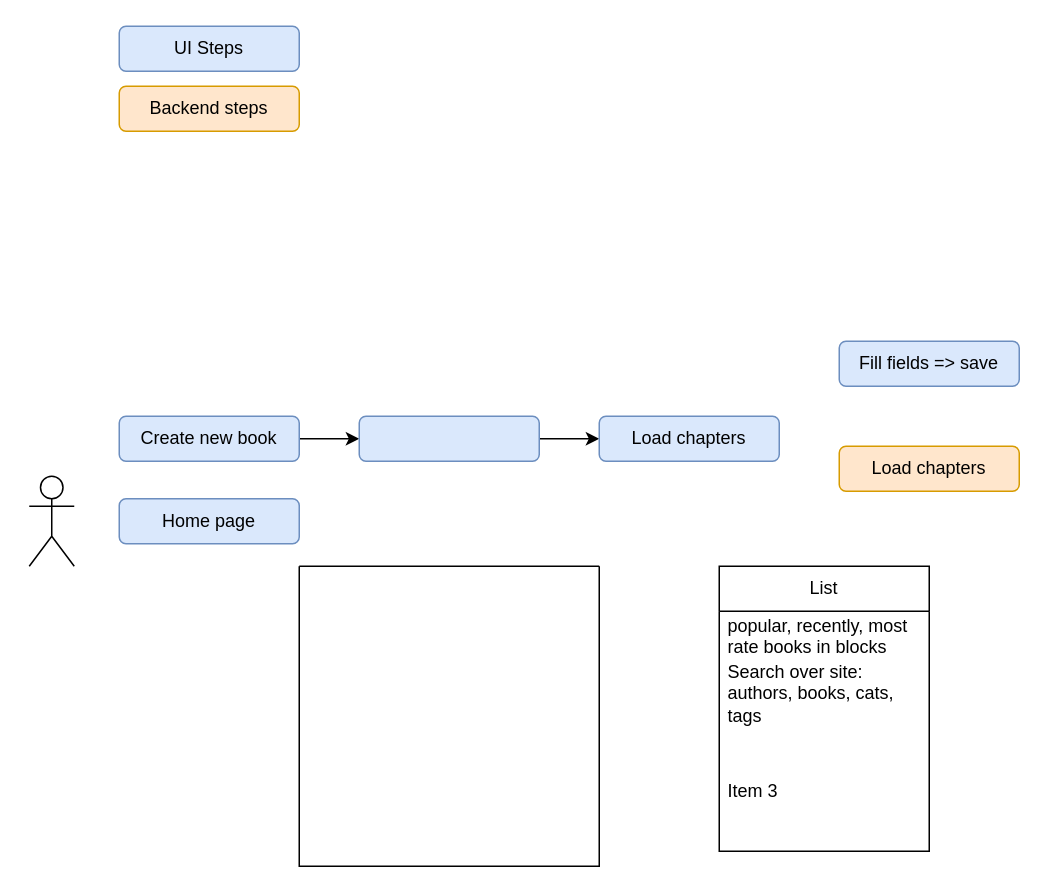
Some shapes in this 1046 by 893 pixel diagram are drawn without their labels. Each missing label, with the centre of its shape:
"Author" goes at [51,520].
"Collection of all popular, recently, most rate etc. books on html blocks" goes at [448,715].
"Fill options" goes at [448,438].
